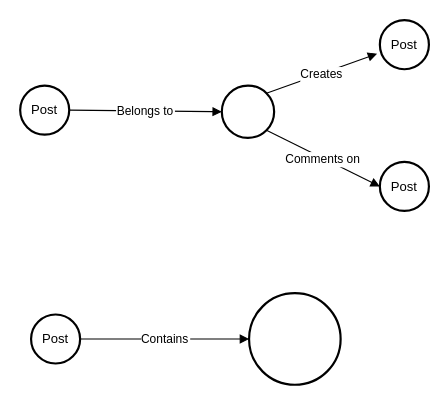
The diagram is 448 pixels wide and 404 high, and some of its shapes have lost their labels. Each missing label, with the centre of its shape:
"Comment" goes at point (294, 338).
"User" goes at point (247, 111).
